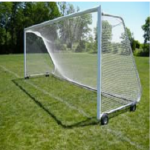goals: (23, 4, 144, 119)
